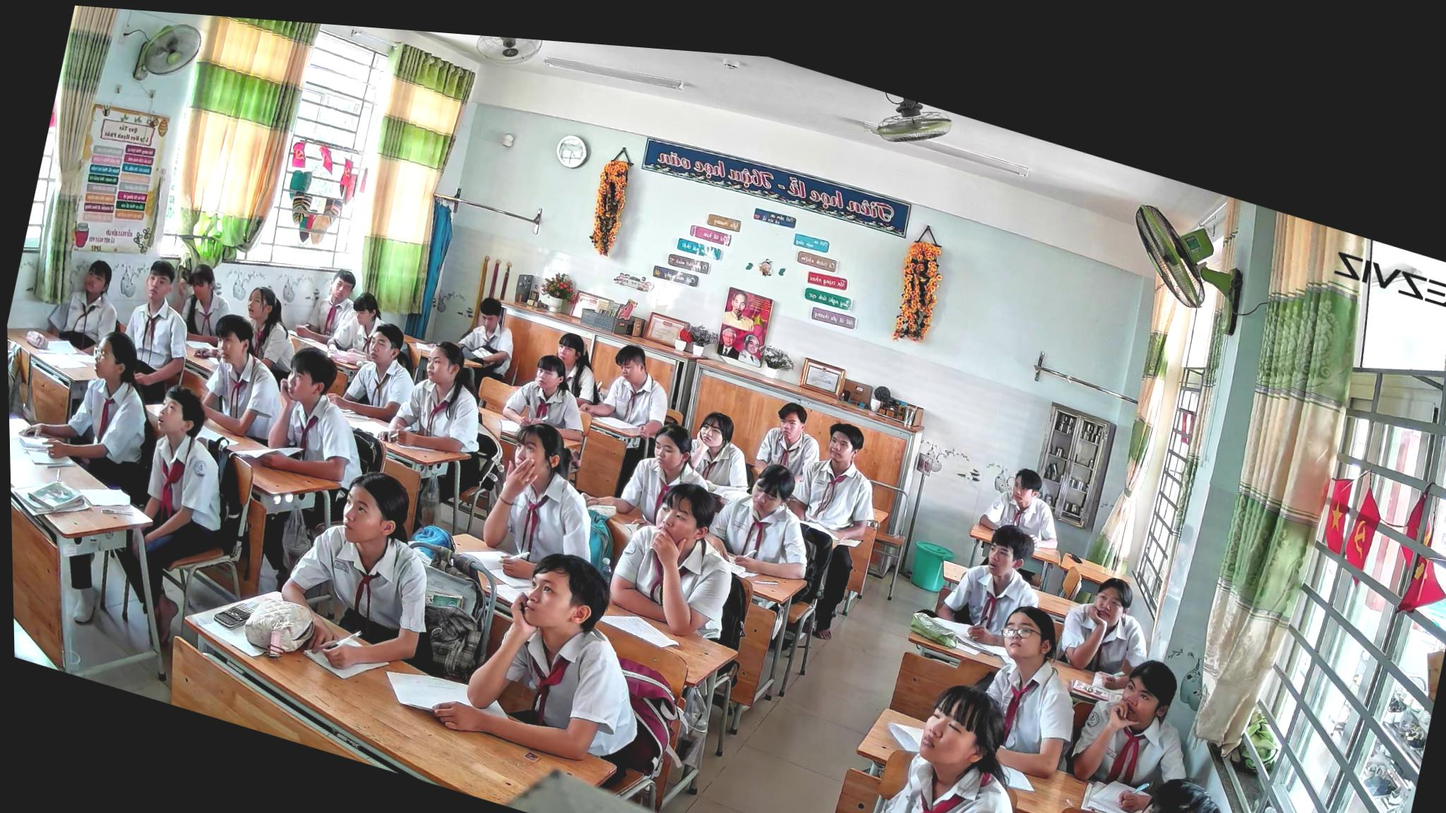person: (423, 520, 673, 786), (264, 447, 461, 695), (779, 640, 1051, 813), (93, 372, 254, 664), (7, 306, 179, 509), (758, 407, 896, 652), (233, 335, 386, 541), (468, 409, 628, 605), (599, 462, 755, 651), (1057, 639, 1211, 813), (963, 593, 1100, 787), (579, 399, 724, 543), (697, 445, 830, 592), (929, 507, 1056, 659), (1005, 736, 1240, 813), (377, 326, 501, 470), (104, 249, 209, 415), (1048, 563, 1166, 704), (191, 307, 299, 448), (321, 308, 428, 433), (575, 331, 682, 442), (32, 245, 132, 363), (497, 343, 601, 448), (973, 456, 1074, 558), (747, 393, 832, 505), (676, 403, 763, 504), (228, 280, 307, 382), (447, 288, 525, 385), (292, 258, 369, 352), (168, 257, 242, 350), (323, 283, 392, 369), (543, 328, 612, 410)
